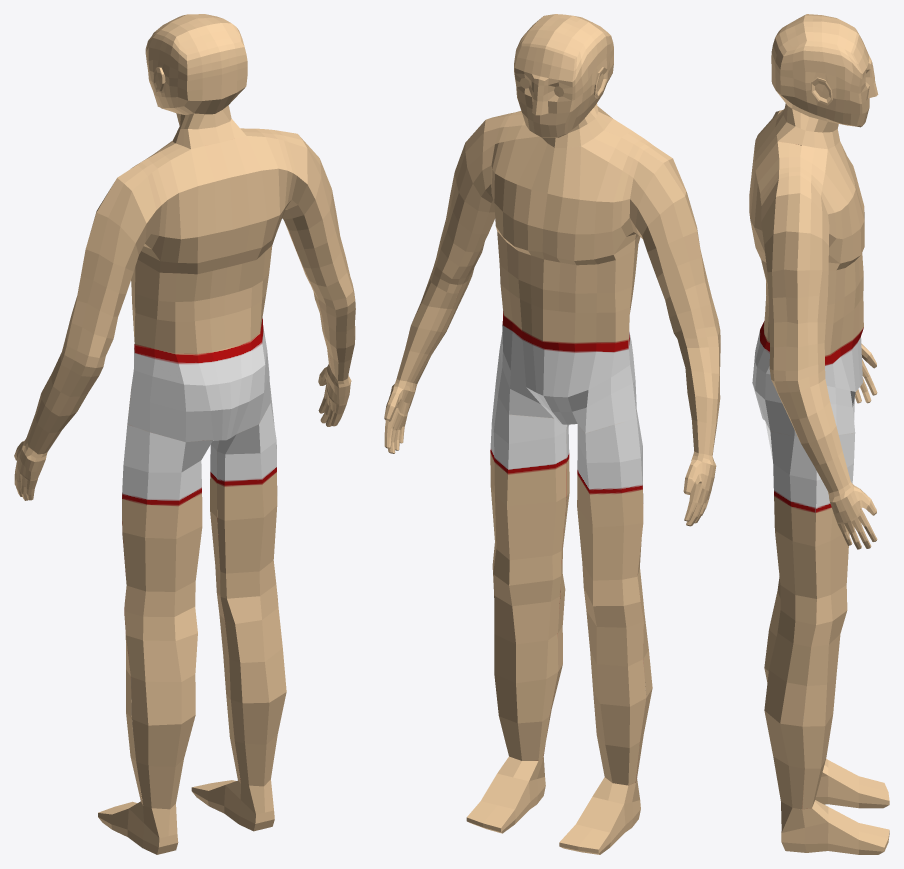
Rendered from Test_Character.fbx.
3 renders of one model, left to right at view 1: azimuth 30°, elevation 25°; view 2: azimuth 150°, elevation 25°; view 3: azimuth 270°, elevation 25°, orthographic.
Visible parts, largest first — view 1: Test Human; view 2: Test Human; view 3: Test Human.
Boxes of the visible parts, box(x1,y1,x2,y2) form: Test Human: box(14, 14, 355, 854); Test Human: box(384, 14, 720, 854); Test Human: box(749, 14, 889, 854).
Bounding box in the file's own units: 1.68 × 3.99 × 0.6335.
